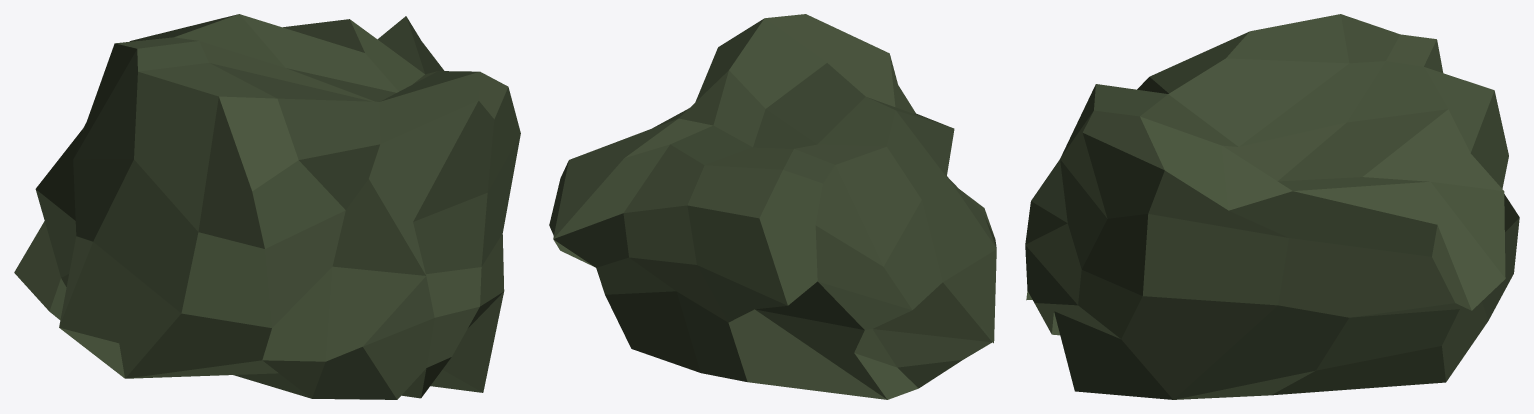
The model's file is Rock2.fbx.
3 views of the same model, side by side, from view 1: azimuth 30°, elevation 25°; view 2: azimuth 150°, elevation 25°; view 3: azimuth 270°, elevation 25° (orthographic). The views are drawn at different scales.
Visible parts, largest first — view 1: Cube; view 2: Cube; view 3: Cube.
Boxes of the visible parts, x1,y1,x2,y2 form: Cube: (14,14,520,399); Cube: (549,14,996,399); Cube: (1025,14,1519,399).
Bounding box in the file's own units: 239 × 154 × 239.
